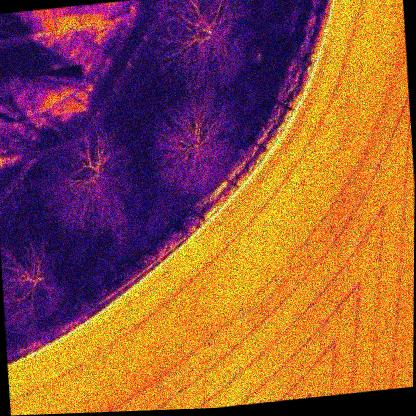Shadow: (33, 70, 60, 91), (60, 79, 86, 100), (8, 74, 34, 95), (35, 86, 62, 104), (79, 7, 106, 25), (31, 16, 57, 34), (61, 97, 88, 114), (58, 65, 83, 83), (36, 101, 62, 118), (7, 21, 32, 38), (55, 13, 80, 30), (7, 10, 31, 24), (0, 25, 9, 41), (0, 14, 8, 27)
